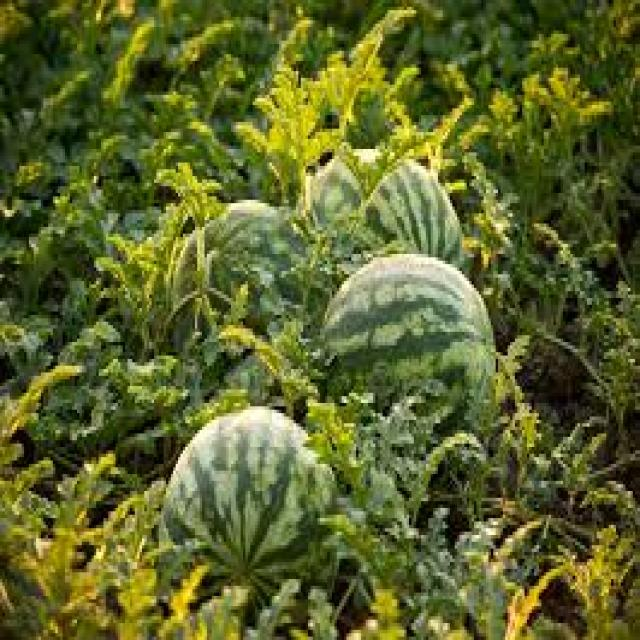watermelon: (156, 403, 337, 609), (312, 251, 496, 447), (296, 143, 470, 279), (191, 178, 303, 335)
